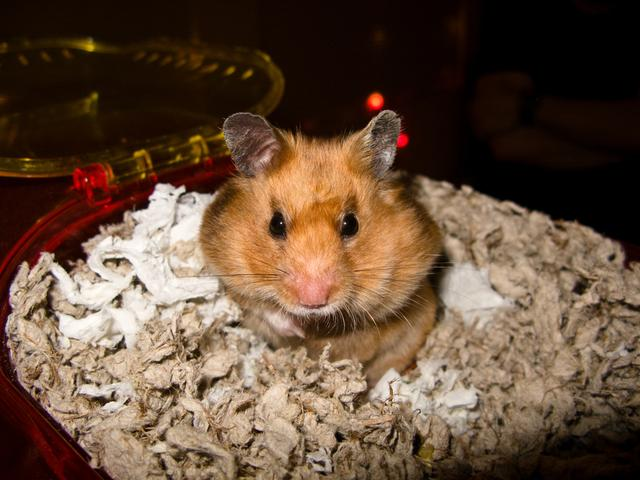mouse: (171, 76, 465, 356)
